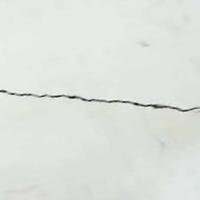crack: (0, 67, 199, 132)
